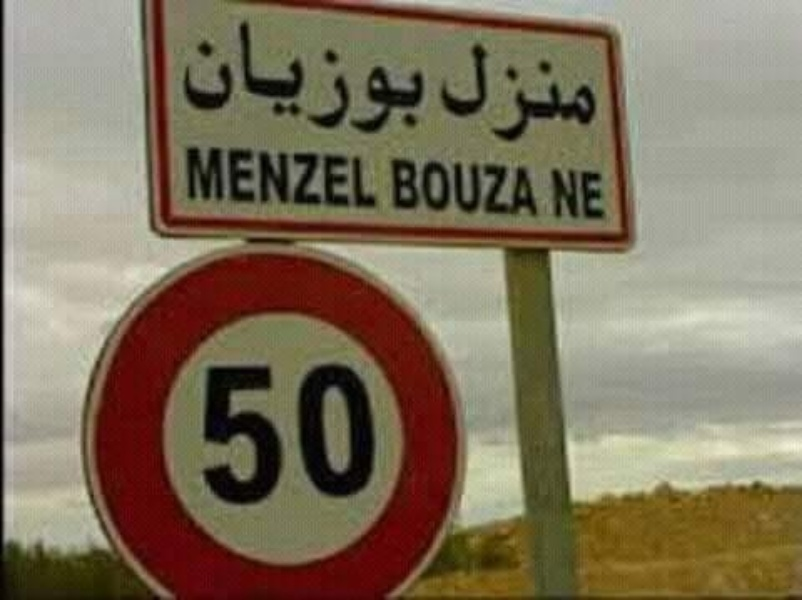text: (209, 362, 224, 510), (225, 362, 240, 510), (241, 362, 256, 510), (257, 362, 272, 510), (273, 362, 288, 510), (289, 362, 304, 510), (305, 362, 320, 510), (321, 362, 336, 510), (337, 362, 352, 510), (353, 362, 368, 510), (193, 16, 208, 141), (209, 16, 224, 141), (225, 16, 240, 141), (241, 16, 256, 141), (257, 16, 272, 141), (273, 16, 288, 141), (289, 16, 304, 141), (305, 16, 320, 141), (321, 16, 336, 141), (337, 16, 352, 141), (353, 16, 368, 141), (369, 16, 384, 141), (385, 16, 400, 141), (401, 16, 416, 141), (178, 16, 192, 141), (449, 41, 464, 146), (465, 41, 480, 146), (481, 41, 496, 146), (497, 41, 512, 146), (513, 41, 528, 146), (529, 41, 544, 146), (545, 41, 560, 146), (561, 41, 576, 146), (577, 41, 592, 146), (369, 362, 378, 510), (417, 16, 427, 141), (201, 362, 208, 510), (193, 144, 208, 209), (209, 144, 224, 209), (225, 144, 240, 209), (241, 144, 256, 209), (257, 144, 272, 209), (273, 144, 288, 209), (289, 144, 304, 209), (305, 144, 320, 209), (321, 144, 336, 209), (337, 144, 352, 209), (353, 144, 368, 209), (593, 41, 602, 146), (401, 158, 416, 216), (417, 158, 432, 216), (433, 158, 448, 216), (449, 158, 464, 216), (465, 158, 480, 216), (481, 158, 496, 216), (497, 158, 512, 216), (513, 158, 528, 216), (440, 41, 448, 146), (561, 169, 576, 221), (577, 169, 592, 221), (593, 169, 608, 221), (183, 144, 192, 209), (529, 158, 539, 216), (391, 158, 400, 216), (550, 169, 560, 221), (369, 144, 376, 209), (609, 169, 610, 221)
